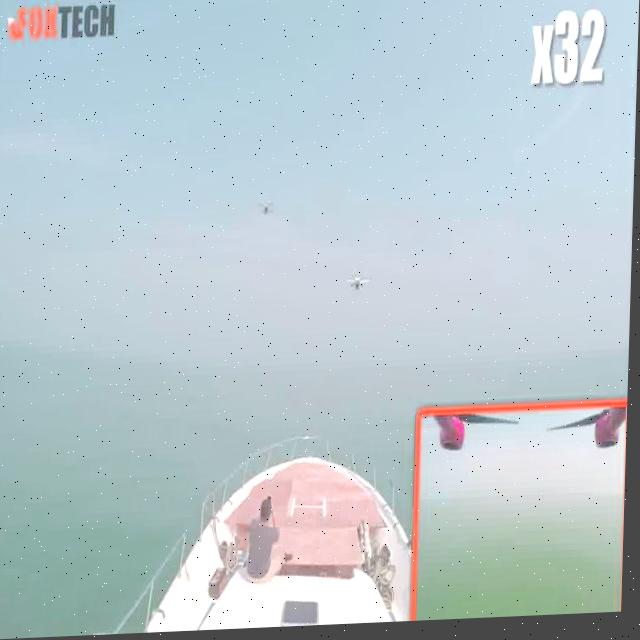drone: (342, 267, 378, 303), (251, 195, 283, 226)
